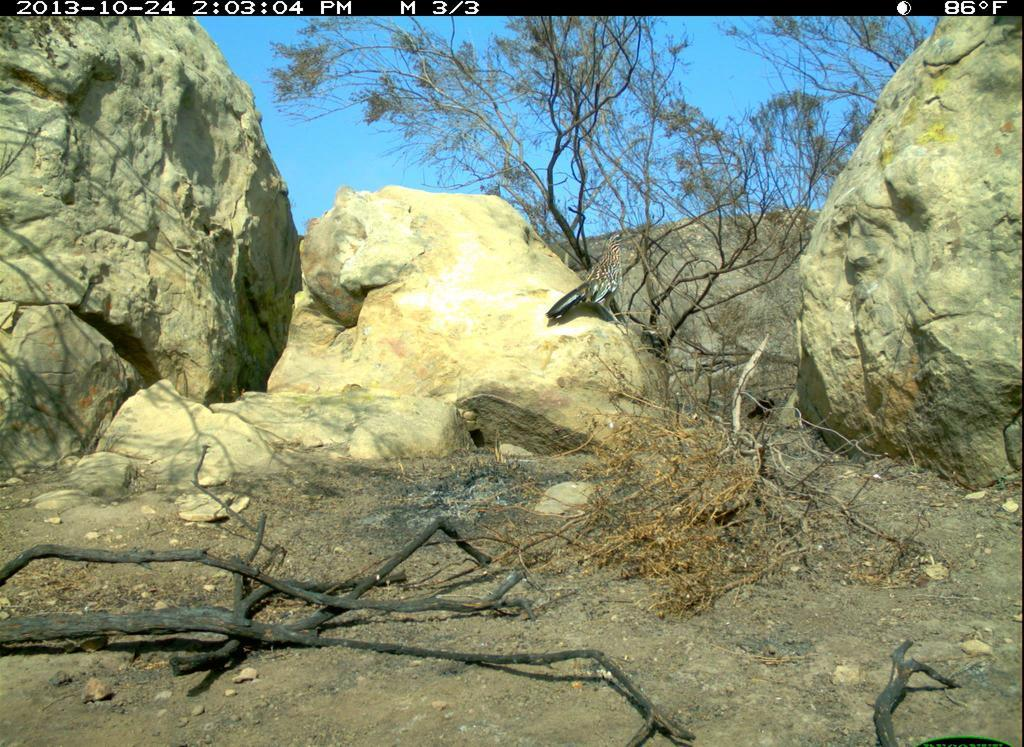bird: (533, 230, 639, 336)
